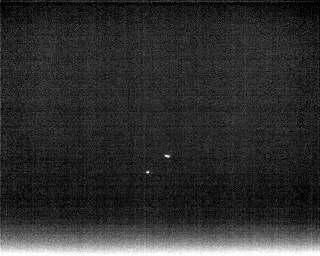BIRD: (162, 151, 173, 161)
